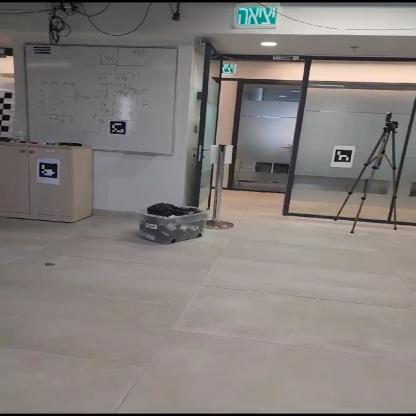open: (194, 70, 300, 224)
